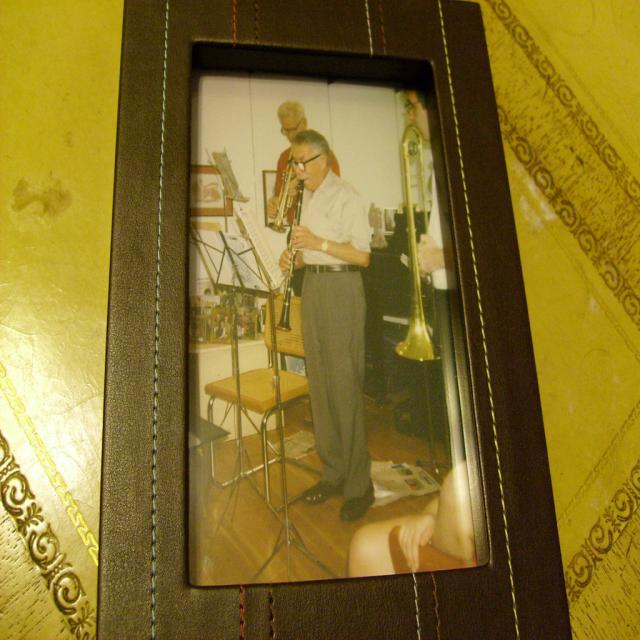clarinet: (276, 179, 308, 338)
